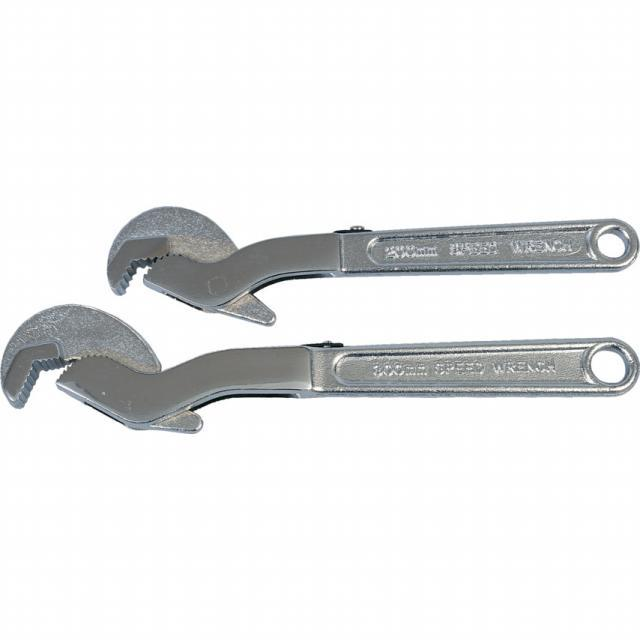wrench: (0, 300, 640, 440), (100, 197, 640, 330)
